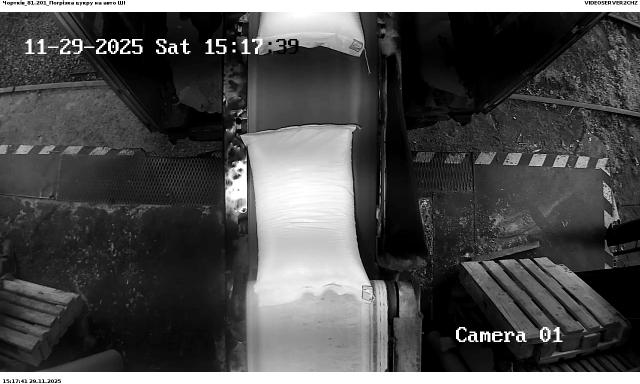bag: (240, 124, 375, 305), (258, 12, 365, 55)
